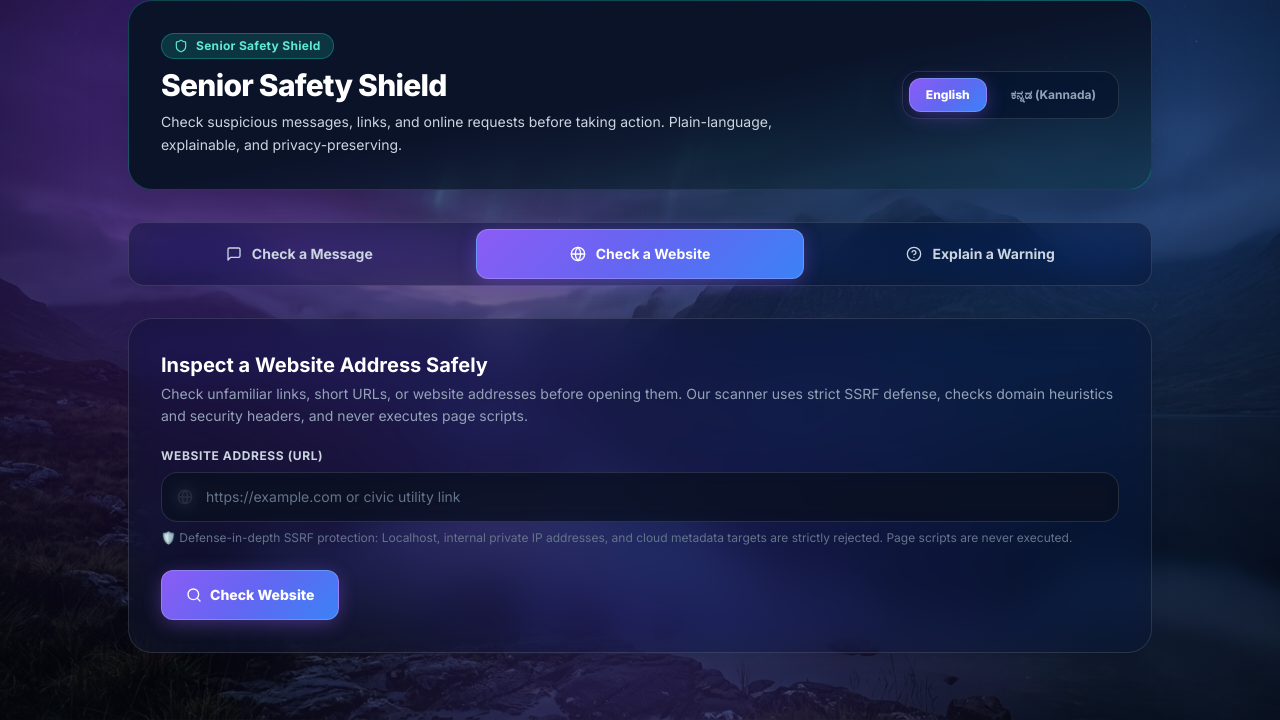
Test: Senior Safety Shield — Frontend & Dashboard Integration › SafetyShieldPage Component › Check a Website: renders "Unable to Verify" distinctly on unreachable/timeout targets
Type "https://offline-site.example.com" into the field with placeholder "https://example.com or civic utility link" at x=640, y=497, box [161,472,1119,522]
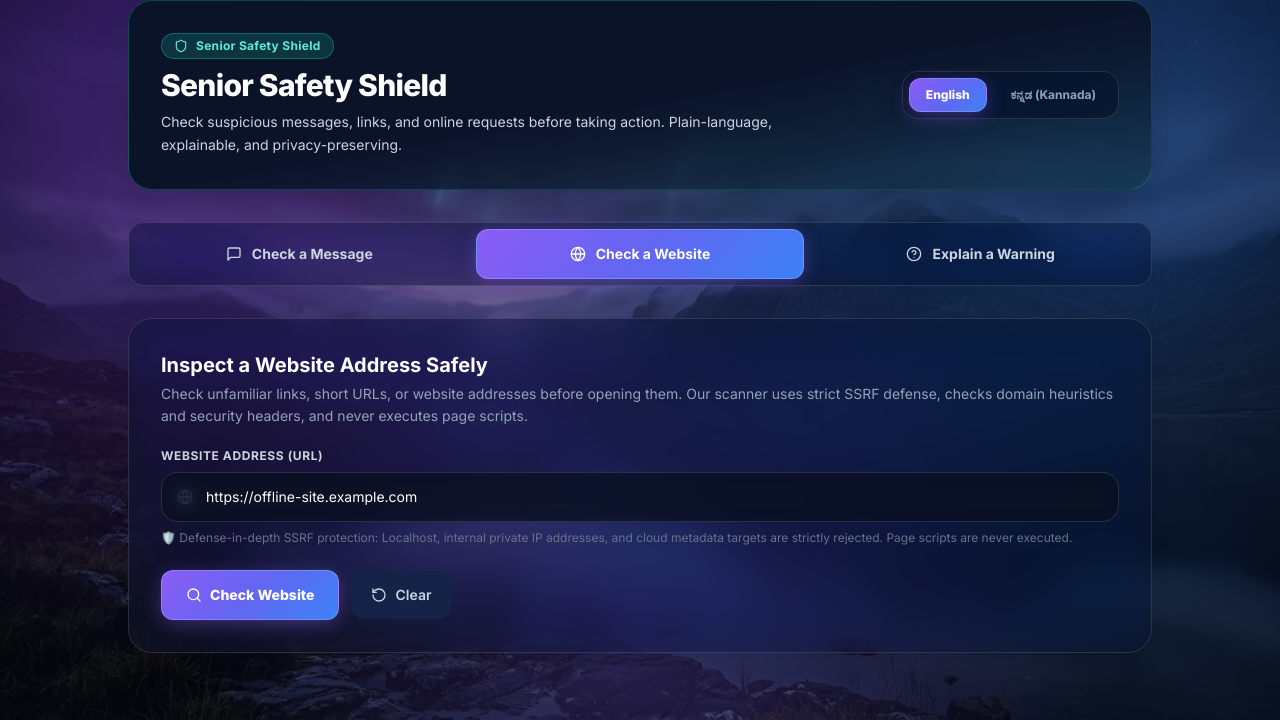
Click the button "Check Website" at x=250, y=595, box [161,570,340,620]
(page scrolled)
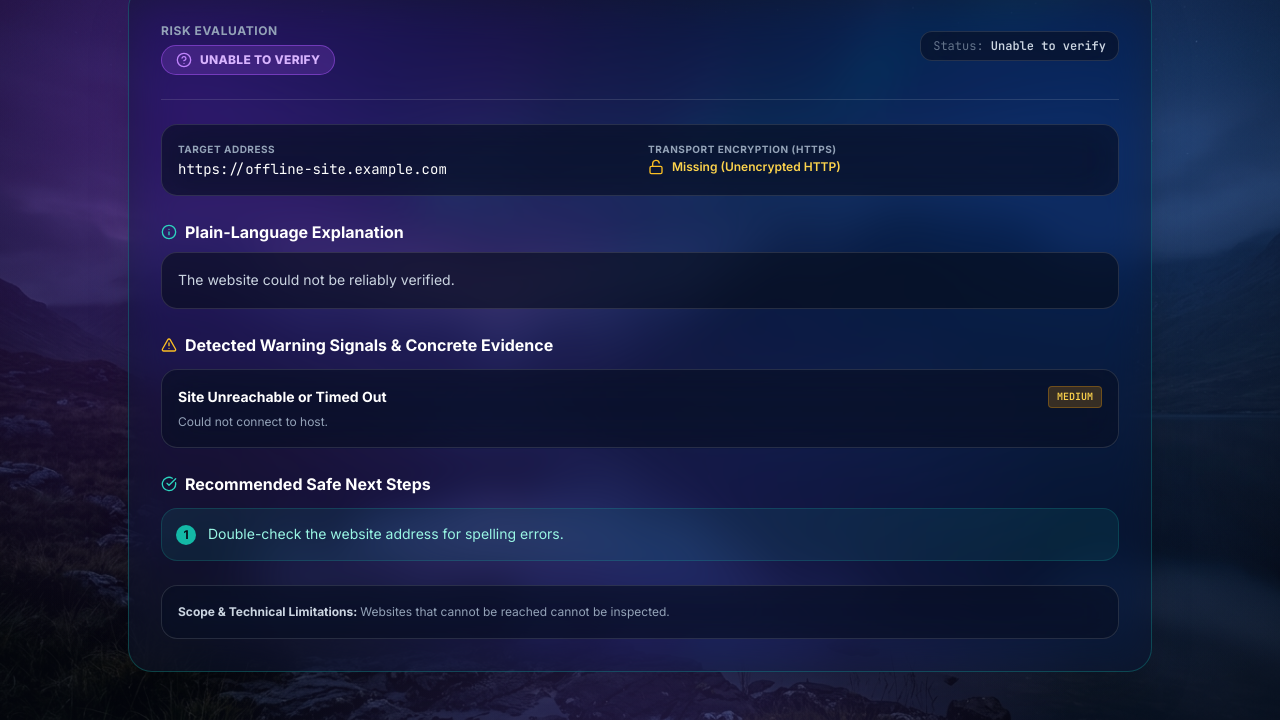
Expected: the text "Site Unreachable or Timed Out" is shown, [178,387,386,407]
